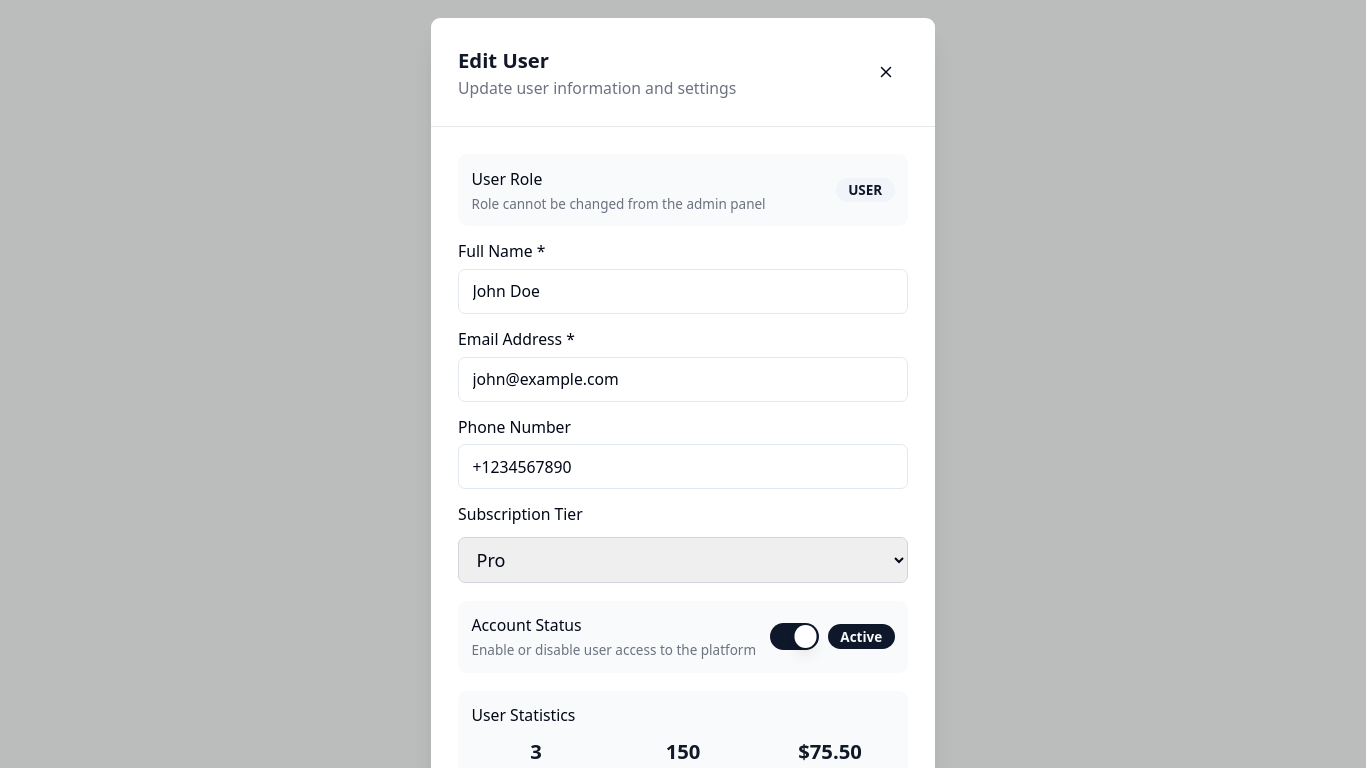
Scenario: UserEditModal › validates phone number format
The width and height of the screenshot is (1366, 768).
Replace the text in the field showing "+1234567890" with "invalid-phone" at (683, 467), box top-left (458, 444), bottom-right (908, 489)
(page scrolled)
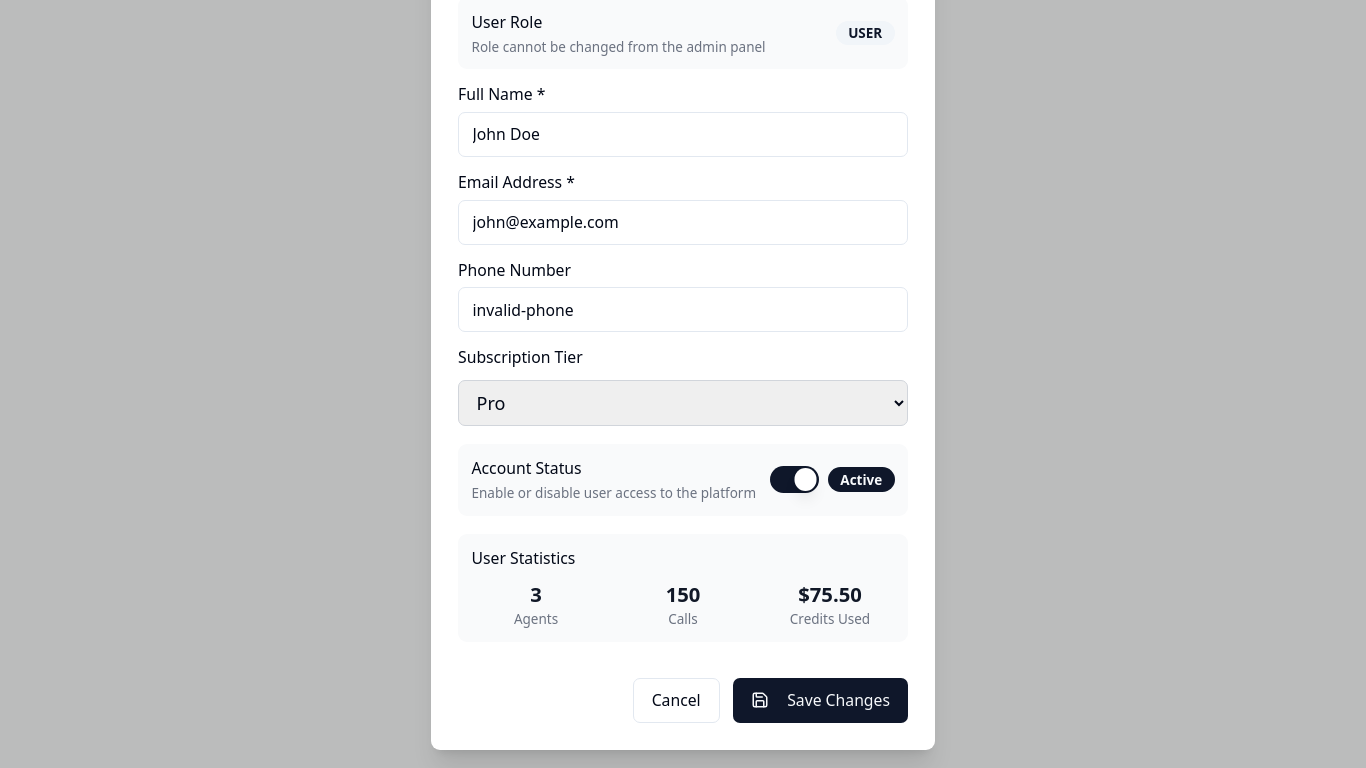
Click the button "Save Changes" at (821, 700), box top-left (733, 678), bottom-right (908, 722)
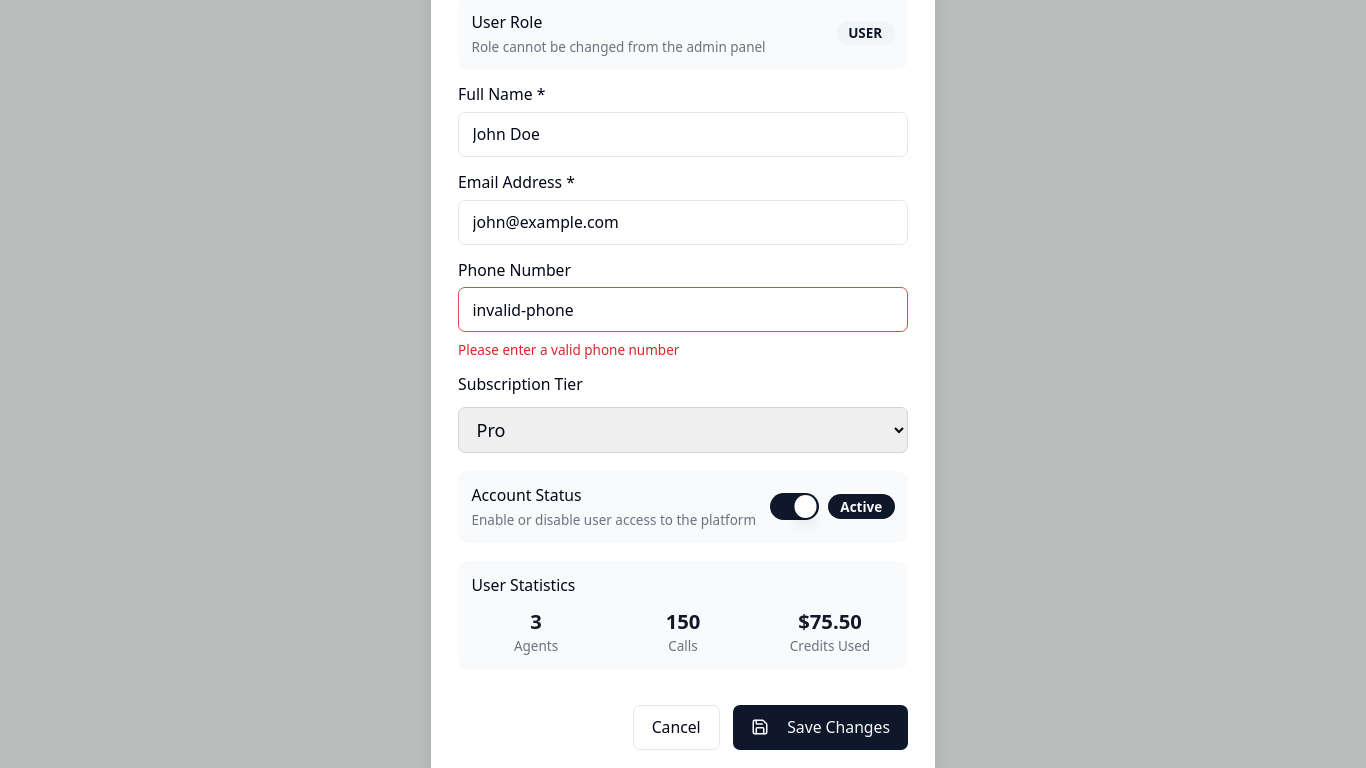
Expected: the text "Please enter a valid phone number" is shown, top-left (458, 341), bottom-right (679, 359)
